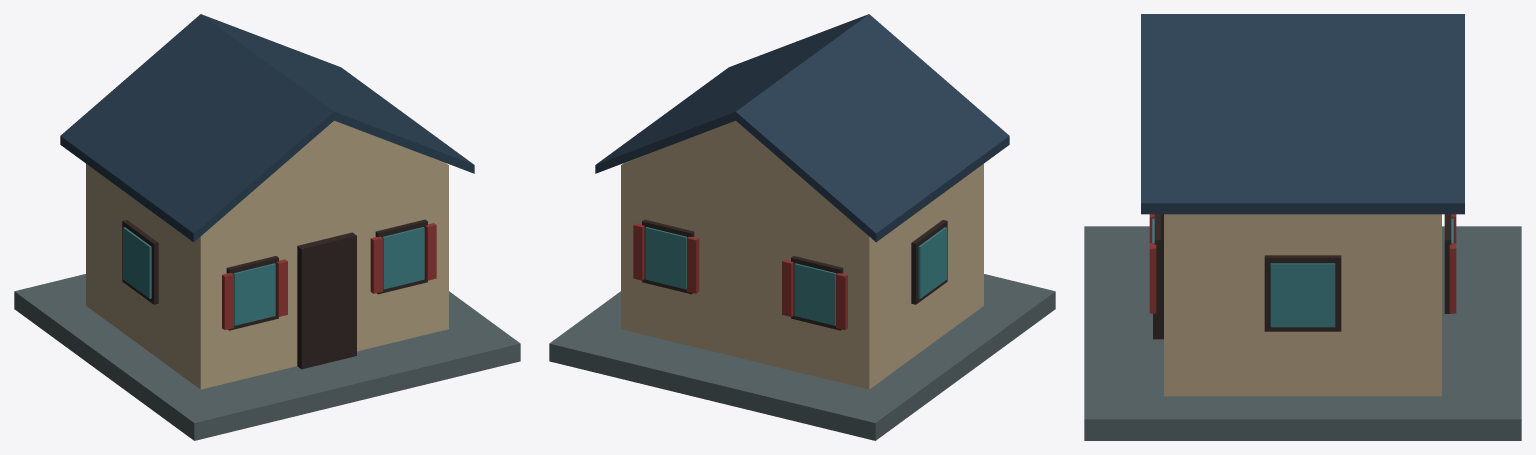
File: PirateCove_HarborTavern_Simple.glb
3 renders of one model, left to right at view 1: azimuth 30°, elevation 25°; view 2: azimuth 150°, elevation 25°; view 3: azimuth 270°, elevation 25°, orthographic. The views are drawn at different scales.
Visible parts, largest first — view 1: PirateCove_HarborTavern_Simple; view 2: PirateCove_HarborTavern_Simple; view 3: PirateCove_HarborTavern_Simple.
Part boxes in pixels (left/top/right/bottom): PirateCove_HarborTavern_Simple: left=14, top=14, right=520, bottom=440; PirateCove_HarborTavern_Simple: left=549, top=14, right=1055, bottom=440; PirateCove_HarborTavern_Simple: left=1084, top=14, right=1521, bottom=440.
Bounding box in the file's own units: 4.6 × 3.67 × 4.4.
